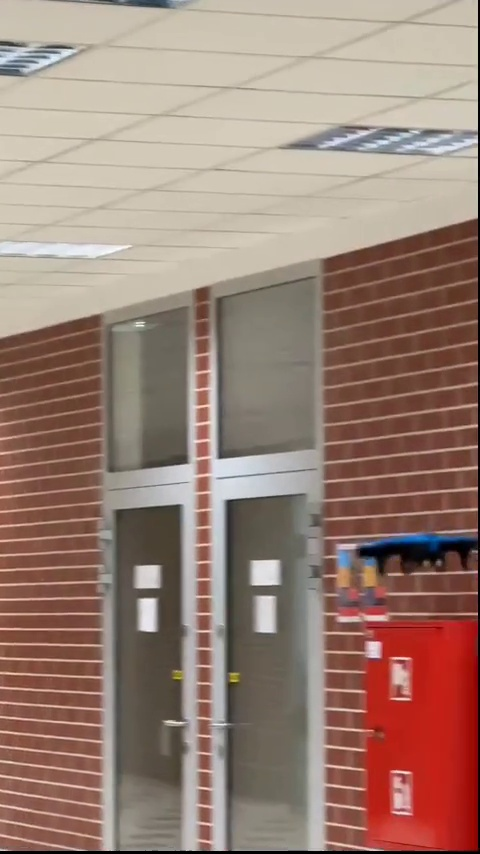drone: (352, 532, 479, 574)
